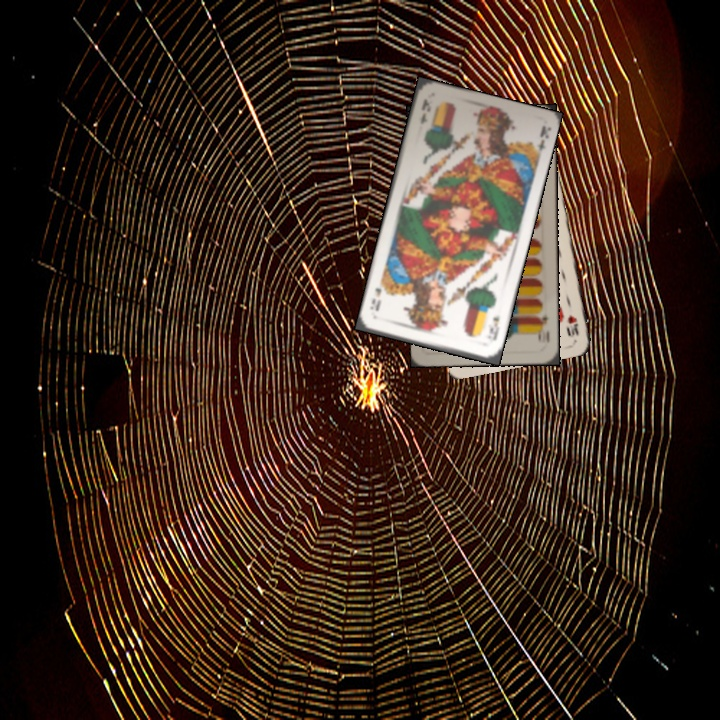E10: (534, 311, 552, 346)
EK: (485, 311, 502, 343), (416, 95, 433, 127)
H10: (563, 311, 581, 340)
